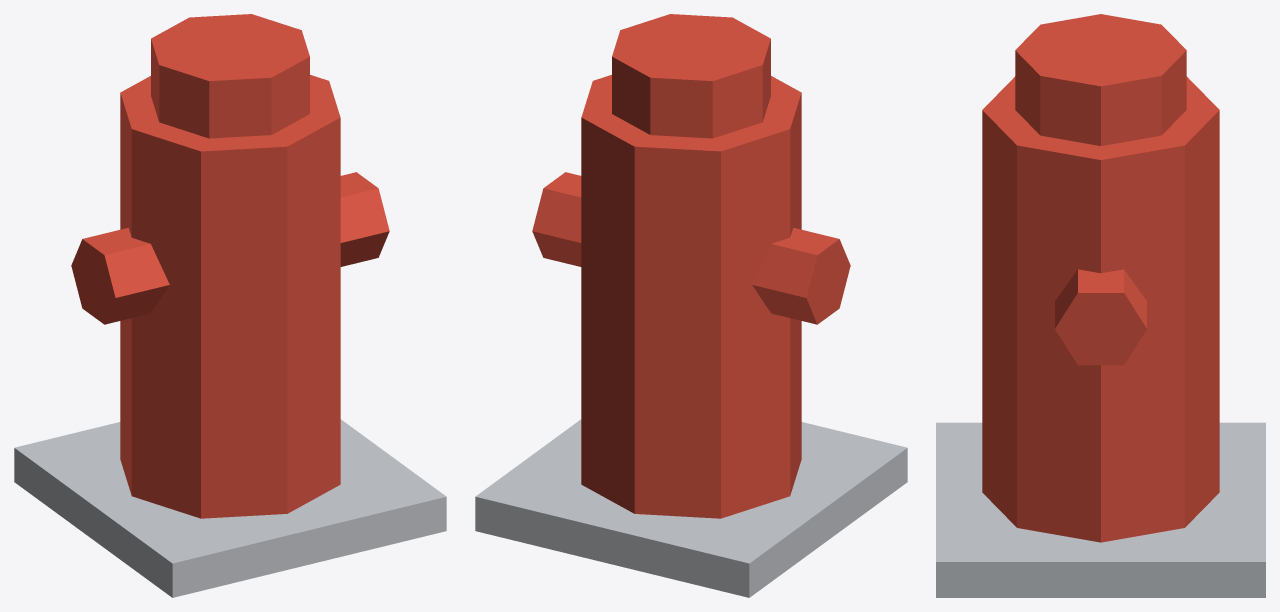
The model's file is hydrant.fbx.
3 renders of one model, left to right at view 1: azimuth 30°, elevation 25°; view 2: azimuth 150°, elevation 25°; view 3: azimuth 270°, elevation 25°, orthographic. The views are drawn at different scales.
Parts seen in each view (by area): view 1: hydrant; view 2: hydrant; view 3: hydrant.
Part boxes in pixels (x1=…): hydrant: x1=14, y1=14, x2=446, y2=597; hydrant: x1=475, y1=14, x2=907, y2=597; hydrant: x1=936, y1=14, x2=1265, y2=597.
Bounding box in the file's own units: 0.5 × 0.8 × 0.5.
